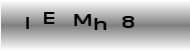8: (120, 14, 135, 28)
E: (43, 11, 55, 25)
M: (73, 13, 92, 27)
h: (93, 17, 107, 31)
l: (25, 16, 30, 31)
